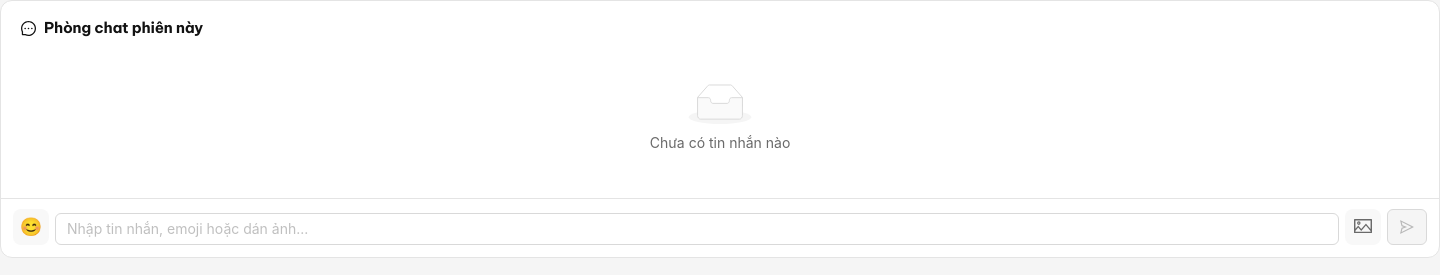
Scenario: ChatBox phòng chat phiên › gửi một tin nhắn có clientMessageId và không hiện trùng khi server broadcast lại
This screenshot has width=1440, height=275.
Check: the heading "Phòng chat phiên này" is shown, box 21,17 -> 203,40
Type "Xin chào phòng phiên" into the text box with placeholder "Nhập tin nhắn, emoji hoặc dán ảnh...".
click(697, 228); type("Xin chào phòng phiên")  # box 55,212 -> 1339,244
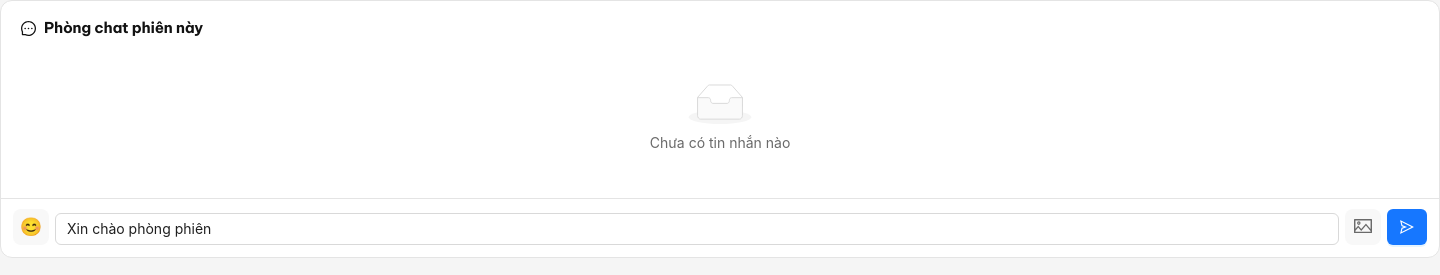
Press Enter in the text box with placeholder "Nhập tin nhắn, emoji hoặc dán ảnh...", box 55,212 -> 1339,244
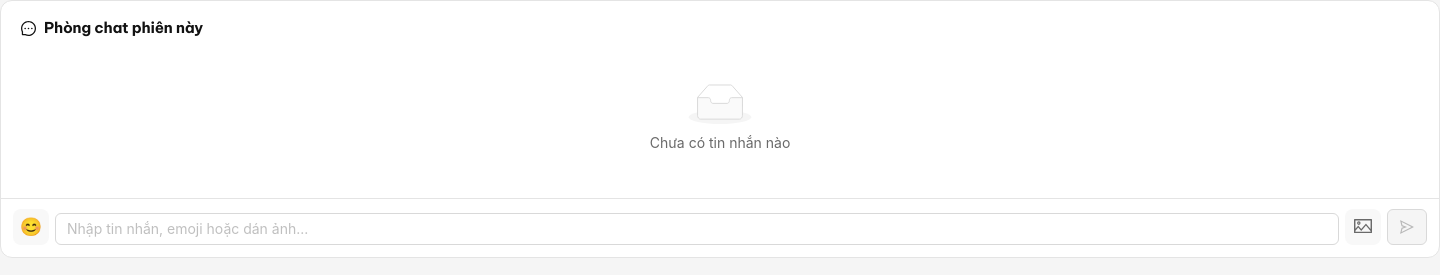
Press Enter in the text box with placeholder "Nhập tin nhắn, emoji hoặc dán ảnh...", box 55,212 -> 1339,244
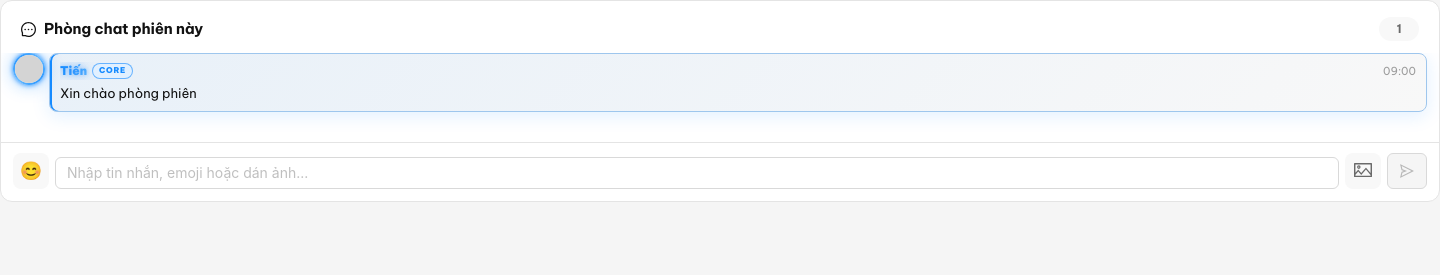
Check: the text "Xin chào phòng phiên" is shown once, box 60,85 -> 197,101
Check: the text "CORE" is shown, box 92,63 -> 133,79
